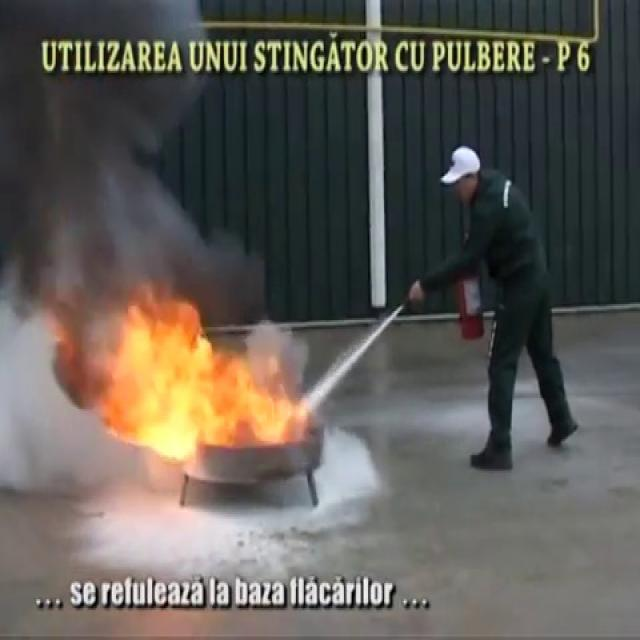Fire: (69, 294, 308, 468)
Smoke: (0, 0, 233, 329)
